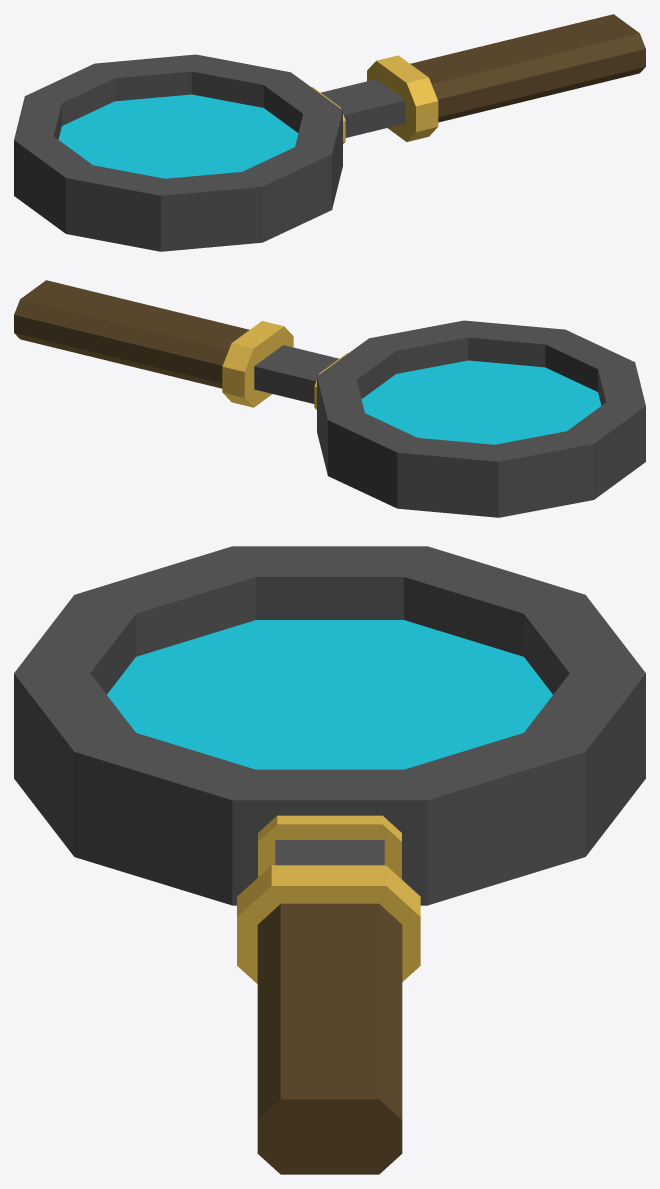
File: Magni.fbx
3 renders of one model, top to bottom at view 1: azimuth 30°, elevation 25°; view 2: azimuth 150°, elevation 25°; view 3: azimuth 270°, elevation 25°, orthographic. The views are drawn at different scales.
Visible parts, largest first — view 1: Cylinder; view 2: Cylinder; view 3: Cylinder.
Part boxes in pixels (x1,y1,x2,y2): Cylinder: [14, 14, 645, 251]; Cylinder: [14, 280, 645, 517]; Cylinder: [14, 546, 645, 1174].
Bounding box in the file's own units: 403 × 38.78 × 200.
